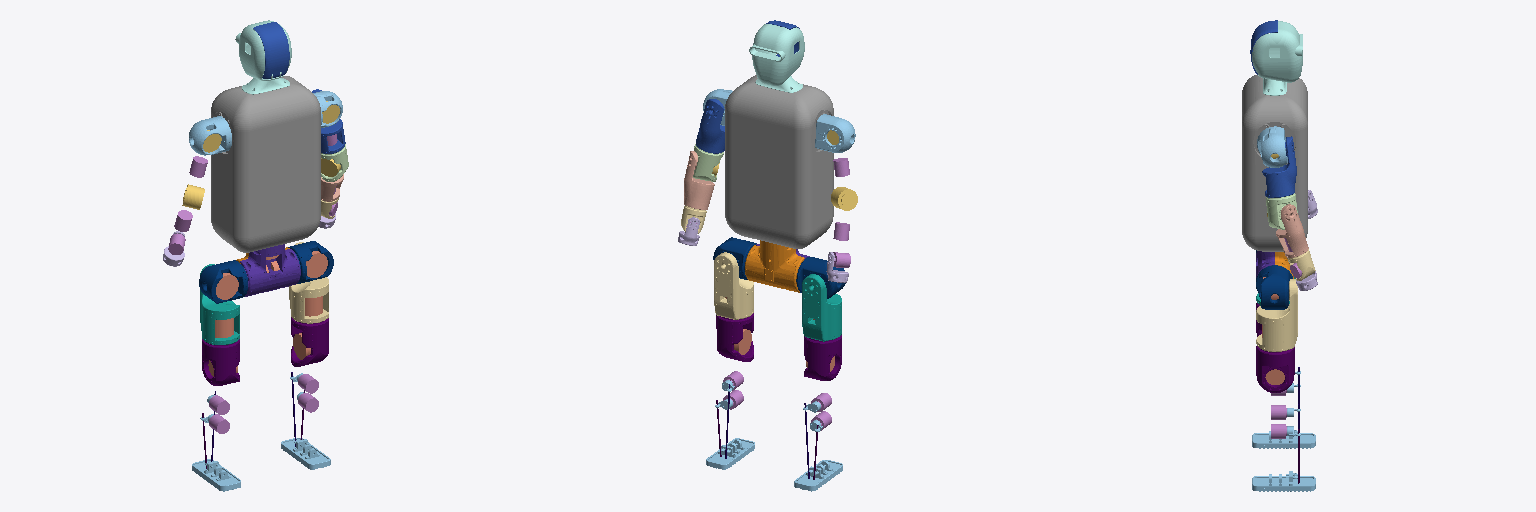
--- Facts derived from the render (not from the file) ---
The picture shows the robot from 3 angles, left to right: view 1: azimuth 30°, elevation 25°; view 2: azimuth 150°, elevation 25°; view 3: azimuth 270°, elevation 25°; orthographic projection.
Robot: robot_harambe_v0.3 — 26 links, 25 joints (25 revolute); root link urdf_base; default pose: every joint at zero.
Links seen in each view (by area): view 1: urdf_simplified_torso, urdf_base, urdf_l_upper_femur_assembly, urdf_hip_assembly, urdf_r_upper_femur_assemby, urdf_lower_femur_assembly_2, urdf_lower_femur_assembly, urdf_l_shoulder_assembly, urdf_hip_assembly_2, urdf_foot_assembly_2, urdf_foot_assembly, urdf_r_tibia_assembly (+4 smaller); view 2: urdf_simplified_torso, urdf_base, urdf_l_upper_femur_assembly, urdf_r_upper_femur_assemby, urdf_lower_femur_assembly_2, urdf_lower_femur_assembly, urdf_l_shoulder_assembly, urdf_r_upper_arm_assembly, urdf_r_upper_forearm_assembly, urdf_l_tibia_assembly, urdf_foot_assembly_2, urdf_foot_assembly (+4 smaller); view 3: urdf_simplified_torso, urdf_r_upper_femur_assemby, urdf_lower_femur_assembly_2, urdf_hip_assembly_2, urdf_r_upper_arm_assembly, urdf_r_upper_forearm_assembly, urdf_r_shoulder_assembly, urdf_foot_assembly_2, urdf_foot_assembly, urdf_r_tibia_assembly, urdf_r_elbow_assembly, urdf_r_lower_forearm_assembly.
Link boxes in pixels (x1,y1,x2,y2): urdf_simplified_torso: (211,20,320,252); urdf_base: (236,244,300,296); urdf_l_upper_femur_assembly: (200,264,239,344); urdf_hip_assembly: (199,260,247,303); urdf_r_upper_femur_assemby: (289,242,328,323); urdf_lower_femur_assembly_2: (291,317,328,366); urdf_lower_femur_assembly: (202,339,239,385); urdf_l_shoulder_assembly: (189,116,231,155); urdf_hip_assembly_2: (288,241,333,283); urdf_foot_assembly_2: (281,438,330,469); urdf_foot_assembly: (192,459,240,491); urdf_r_tibia_assembly: (290,372,318,446); urdf_simplified_torso: (725,20,833,248); urdf_base: (745,240,809,292); urdf_l_upper_femur_assembly: (802,274,841,341); urdf_r_upper_femur_assemby: (714,252,753,319); urdf_lower_femur_assembly_2: (716,313,753,361); urdf_lower_femur_assembly: (804,335,841,380); urdf_l_shoulder_assembly: (815,114,855,152); urdf_r_upper_arm_assembly: (696,99,724,153); urdf_r_upper_forearm_assembly: (684,151,714,209); urdf_l_tibia_assembly: (803,393,831,479); urdf_foot_assembly_2: (706,438,754,469); urdf_foot_assembly: (794,460,842,491); urdf_simplified_torso: (1242,20,1307,251); urdf_r_upper_femur_assemby: (1256,279,1297,351); urdf_lower_femur_assembly_2: (1256,346,1294,392); urdf_hip_assembly_2: (1256,265,1292,309); urdf_r_upper_arm_assembly: (1262,136,1296,197); urdf_r_upper_forearm_assembly: (1276,204,1308,257); urdf_r_shoulder_assembly: (1257,126,1287,167); urdf_foot_assembly_2: (1252,471,1315,491); urdf_foot_assembly: (1252,430,1315,448); urdf_r_tibia_assembly: (1271,404,1300,483); urdf_r_elbow_assembly: (1266,193,1297,229); urdf_r_lower_forearm_assembly: (1287,249,1315,280).
Size in the robot's own frame: 0.7097 by 0.2769 by 1.77 metres.
52 mesh visuals loaded from 31 distinct referenced files (24 binary STL); not drawn: 8 (reference not matched to a file when rendering).

URDF robot description (robot_harambe_v0.3):
<?xml version="1.0" ?>
<!-- Generated using onshape-to-robot -->
<!-- Onshape document_id: a1654a8c4d07fc15a88455e3 -->
<robot name="robot_harambe_v0.3">
  <!-- Link urdf_base -->
  <link name="urdf_base">
    <inertial>
      <origin xyz="0.000699269 0.0334604 -0.431702" rpy="0 0 0"/>
      <mass value="5.132"/>
      <inertia ixx="0.0213139" ixy="-2.35276e-07" ixz="6.5838e-06" iyy="0.0288848" iyz="-2.88595e-05" izz="0.0155352"/>
    </inertial>
    <!-- Part stator_x8_p20_120_unified -->
    <visual>
      <origin xyz="-0.0103011 0.0333787 -0.467748" rpy="-1.5708 0.785398 1.5708"/>
      <geometry>
        <mesh filename="package://assets/stator_x8_p20_120_unified.stl"/>
      </geometry>
      <material name="stator_x8_p20_120_unified_material">
        <color rgba="0.882353 0.572549 0.478431 1"/>
      </material>
    </visual>
    <collision>
      <origin xyz="-0.0103011 0.0333787 -0.467748" rpy="-1.5708 0.785398 1.5708"/>
      <geometry>
        <mesh filename="package://assets/stator_x8_p20_120_unified.stl"/>
      </geometry>
    </collision>
    <!-- Part b_base -->
    <visual>
      <origin xyz="0.000697952 -0.00271429 -0.432504" rpy="0 -0 0"/>
      <geometry>
        <mesh filename="package://assets/b_base.stl"/>
      </geometry>
      <material name="b_base_material">
        <color rgba="0.368627 0.25098 0.643137 1"/>
      </material>
    </visual>
    <collision>
      <origin xyz="0.000697952 -0.00271429 -0.432504" rpy="0 -0 0"/>
      <geometry>
        <mesh filename="package://assets/b_base.stl"/>
      </geometry>
    </collision>
    <!-- Part stator_x8_p20_120_unified_2 -->
    <visual>
      <origin xyz="0.0116989 0.0333787 -0.467748" rpy="1.5708 -0.785398 1.5708"/>
      <geometry>
        <mesh filename="package://assets/stator_x8_p20_120_unified.stl"/>
      </geometry>
      <material name="stator_x8_p20_120_unified_2_material">
        <color rgba="0.882353 0.572549 0.478431 1"/>
      </material>
    </visual>
    <collision>
      <origin xyz="0.0116989 0.0333787 -0.467748" rpy="1.5708 -0.785398 1.5708"/>
      <geometry>
        <mesh filename="package://assets/stator_x8_p20_120_unified.stl"/>
      </geometry>
    </collision>
    <!-- Part stator_x8_p20_120_unified_3 -->
    <visual>
      <origin xyz="0.000698852 0.0333787 -0.396748" rpy="0 -0 0"/>
      <geometry>
        <mesh filename="package://assets/stator_x8_p20_120_unified.stl"/>
      </geometry>
      <material name="stator_x8_p20_120_unified_3_material">
        <color rgba="0.882353 0.572549 0.478431 1"/>
      </material>
    </visual>
    <collision>
      <origin xyz="0.000698852 0.0333787 -0.396748" rpy="0 -0 0"/>
      <geometry>
        <mesh filename="package://assets/stator_x8_p20_120_unified.stl"/>
      </geometry>
    </collision>
    <!-- Part f_base -->
    <visual>
      <origin xyz="0.000705351 0.070373 -0.431099" rpy="0 -0 0"/>
      <geometry>
        <mesh filename="package://assets/f_base.stl"/>
      </geometry>
      <material name="f_base_material">
        <color rgba="0.909804 0.572549 0.164706 1"/>
      </material>
    </visual>
    <collision>
      <origin xyz="0.000705351 0.070373 -0.431099" rpy="0 -0 0"/>
      <geometry>
        <mesh filename="package://assets/f_base.stl"/>
      </geometry>
    </collision>
  </link>
  <!-- Link urdf_simplified_torso -->
  <link name="urdf_simplified_torso">
    <inertial>
      <origin xyz="4.1776e-05 0.00199118 0.327574" rpy="0 0 0"/>
      <mass value="5.9"/>
      <inertia ixx="0.294153" ixy="-5.08517e-07" ixz="-9.68158e-05" iyy="0.320832" iyz="-0.00443482" izz="0.076931"/>
    </inertial>
    <!-- Part urdf_simplified_torso -->
    <visual>
      <origin xyz="0 5.1e-11 0.26095" rpy="-0 -0 -0"/>
      <geometry>
        <mesh filename="package://assets/urdf_simplified_torso.stl"/>
      </geometry>
      <material name="urdf_simplified_torso_material">
        <color rgba="0.647059 0.647059 0.647059 1"/>
      </material>
    </visual>
    <collision>
      <origin xyz="0 5.1e-11 0.26095" rpy="-0 -0 -0"/>
      <geometry>
        <mesh filename="package://assets/urdf_simplified_torso.stl"/>
      </geometry>
    </collision>
    <!-- Part head -->
    <visual>
      <origin xyz="0.000382221 4.03711e-05 0.67095" rpy="0 0 0"/>
      <geometry>
        <mesh filename="package://assets/head.stl"/>
      </geometry>
      <material name="head_material">
        <color rgba="0.737255 0.937255 0.917647 1"/>
      </material>
    </visual>
    <collision>
      <origin xyz="0.000382221 4.03711e-05 0.67095" rpy="0 0 0"/>
      <geometry>
        <mesh filename="package://assets/head.stl"/>
      </geometry>
    </collision>
    <!-- Part back_access -->
    <visual>
      <origin xyz="0.000382221 4.03711e-05 0.672878" rpy="0 0 0"/>
      <geometry>
        <mesh filename="package://assets/back_access.stl"/>
      </geometry>
      <material name="back_access_material">
        <color rgba="0.231373 0.380392 0.705882 1"/>
      </material>
    </visual>
    <collision>
      <origin xyz="0.000382221 4.03711e-05 0.672878" rpy="0 0 0"/>
      <geometry>
        <mesh filename="package://assets/back_access.stl"/>
      </geometry>
    </collision>
  </link>
  <!-- Link urdf_l_shoulder_assembly -->
  <link name="urdf_l_shoulder_assembly">
    <inertial>
      <origin xyz="-0.00409836 0.000544496 0.0631966" rpy="0 0 0"/>
      <mass value="1.246"/>
      <inertia ixx="0.00205876" ixy="-4.11941e-05" ixz="-3.48871e-05" iyy="0.00171602" iyz="7.63836e-06" izz="0.00152408"/>
    </inertial>
    <!-- Part l_shoulder -->
    <visual>
      <origin xyz="-0.00129022 0.000165436 0.0502746" rpy="1.69297 1.5708 0"/>
      <geometry>
        <mesh filename="package://assets/l_shoulder.stl"/>
      </geometry>
      <material name="l_shoulder_material">
        <color rgba="0.615686 0.811765 0.929412 1"/>
      </material>
    </visual>
    <collision>
      <origin xyz="-0.00129022 0.000165436 0.0502746" rpy="1.69297 1.5708 0"/>
      <geometry>
        <mesh filename="package://assets/l_shoulder.stl"/>
      </geometry>
    </collision>
    <!-- Part stator_x6_p20_60_unified -->
    <visual>
      <origin xyz="-0.038213 0.00469197 0.07" rpy="0.122173 1.5708 0"/>
      <geometry>
        <mesh filename="package://assets/stator_x6_p20_60_unified.stl"/>
      </geometry>
      <material name="stator_x6_p20_60_unified_material">
        <color rgba="0.960784 0.835294 0.470588 1"/>
      </material>
    </visual>
    <collision>
      <origin xyz="-0.038213 0.00469197 0.07" rpy="0.122173 1.5708 0"/>
      <geometry>
        <mesh filename="package://assets/stator_x6_p20_60_unified.stl"/>
      </geometry>
    </collision>
  </link>
  <!-- Link urdf_l_upper_arm_assembly -->
  <link name="urdf_l_upper_arm_assembly">
    <inertial>
      <origin xyz="-0.0213183 0.103332 -0.0354438" rpy="0 0 0"/>
      <mass value="0.802"/>
      <inertia ixx="0.00203106" ixy="0.000183112" ixz="-8.88411e-05" iyy="0.00107639" iyz="0.000467525" izz="0.00190836"/>
    </inertial>
    <!-- Part urdf_l_upper_arm_simplified -->
    <visual>
      <origin xyz="-0.0182149 0.0914676 -0.0268697" rpy="1.5708 -0.785398 0.20944"/>
      <geometry>
        <mesh filename="package://assets/urdf_l_upper_arm_simplified.stl"/>
      </geometry>
      <material name="urdf_l_upper_arm_simplified_material">
        <color rgba="0.917647 0.917647 0.917647 1"/>
      </material>
    </visual>
    <collision>
      <origin xyz="-0.0182149 0.0914676 -0.0268697" rpy="1.5708 -0.785398 0.20944"/>
      <geometry>
        <mesh filename="package://assets/urdf_l_upper_arm_simplified.stl"/>
      </geometry>
    </collision>
    <!-- Part stator_x4_p36_36_unified -->
    <visual>
      <origin xyz="-0.01892 0.0890114 -0.046" rpy="-1.5708 0.785398 0.20944"/>
      <geometry>
        <mesh filename="package://assets/stator_x4_p36_36_unified.stl"/>
      </geometry>
      <material name="stator_x4_p36_36_unified_material">
        <color rgba="0.764706 0.545098 0.803922 1"/>
      </material>
    </visual>
    <collision>
      <origin xyz="-0.01892 0.0890114 -0.046" rpy="-1.5708 0.785398 0.20944"/>
      <geometry>
        <mesh filename="package://assets/stator_x4_p36_36_unified.stl"/>
      </geometry>
    </collision>
  </link>
  <!-- Link urdf_l_elbow_assembly -->
  <link name="urdf_l_elbow_assembly">
    <inertial>
      <origin xyz="0.000297133 0.00777593 -0.0710681" rpy="0 0 0"/>
      <mass value="1.109"/>
      <inertia ixx="0.00140529" ixy="1.03356e-05" ixz="-1.68171e-05" iyy="0.00151899" iyz="7.83699e-05" izz="0.00113761"/>
    </inertial>
    <!-- Part stator_x6_p20_60_unified_2 -->
    <visual>
      <origin xyz="0 0.044 -0.075" rpy="1.5708 1.5708 0"/>
      <geometry>
        <mesh filename="package://assets/stator_x6_p20_60_unified.stl"/>
      </geometry>
      <material name="stator_x6_p20_60_unified_2_material">
        <color rgba="0.960784 0.835294 0.470588 1"/>
      </material>
    </visual>
    <collision>
      <origin xyz="0 0.044 -0.075" rpy="1.5708 1.5708 0"/>
      <geometry>
        <mesh filename="package://assets/stator_x6_p20_60_unified.stl"/>
      </geometry>
    </collision>
    <!-- Part urdf_l_elbow_simplified -->
    <visual>
      <origin xyz="0 0.01225 -0.075" rpy="-1.5708 1.5708 0"/>
      <geometry>
        <mesh filename="package://assets/urdf_l_elbow_simplified.stl"/>
      </geometry>
      <material name="urdf_l_elbow_simplified_material">
        <color rgba="0.231373 0.380392 0.705882 1"/>
      </material>
    </visual>
    <collision>
      <origin xyz="0 0.01225 -0.075" rpy="-1.5708 1.5708 0"/>
      <geometry>
        <mesh filename="package://assets/urdf_l_elbow_simplified.stl"/>
      </geometry>
    </collision>
  </link>
  <!-- Link urdf_l_upper_forearm_assembly -->
  <link name="urdf_l_upper_forearm_assembly">
    <inertial>
      <origin xyz="0.10341 0.00191699 0.0286559" rpy="0 0 0"/>
      <mass value="0.707"/>
      <inertia ixx="0.000720041" ixy="-2.79231e-06" ixz="-0.000365631" iyy="0.00168211" iyz="-5.21195e-06" izz="0.00146156"/>
    </inertial>
    <!-- Part urdf_l_upper_forearm_simplified -->
    <visual>
      <origin xyz="0.119 0 0.035" rpy="0 -1.5708 0"/>
      <geometry>
        <mesh filename="package://assets/urdf_l_upper_forearm_simplified.stl"/>
      </geometry>
      <material name="urdf_l_upper_forearm_simplified_material">
        <color rgba="0.498039 0.498039 0.498039 1"/>
      </material>
    </visual>
    <collision>
      <origin xyz="0.119 0 0.035" rpy="0 -1.5708 0"/>
      <geometry>
        <mesh filename="package://assets/urdf_l_upper_forearm_simplified.stl"/>
      </geometry>
    </collision>
    <!-- Part stator_x4_p36_36_unified_2 -->
    <visual>
      <origin xyz="0.09 0 0.035" rpy="-3.14159 -1.5708 0"/>
      <geometry>
        <mesh filename="package://assets/stator_x4_p36_36_unified.stl"/>
      </geometry>
      <material name="stator_x4_p36_36_unified_2_material">
        <color rgba="0.764706 0.545098 0.803922 1"/>
      </material>
    </visual>
    <collision>
      <origin xyz="0.09 0 0.035" rpy="-3.14159 -1.5708 0"/>
      <geometry>
        <mesh filename="package://assets/stator_x4_p36_36_unified.stl"/>
      </geometry>
    </collision>
  </link>
  <!-- Link urdf_l_lower_forearm_assembly -->
  <link name="urdf_l_lower_forearm_assembly">
    <inertial>
      <origin xyz="-0.000687732 -0.00432126 -0.0515634" rpy="0 0 0"/>
      <mass value="0.618"/>
      <inertia ixx="0.000619445" ixy="-4.69813e-06" ixz="1.66447e-05" iyy="0.000626234" iyz="-2.276e-05" izz="0.000448744"/>
    </inertial>
    <!-- Part urdf_l_lower_forearm_simplified -->
    <visual>
      <origin xyz="0 -0.009 -0.0615" rpy="-1.5708 -0 -3.14159"/>
      <geometry>
        <mesh filename="package://assets/urdf_l_lower_forearm_simplified.stl"/>
      </geometry>
      <material name="urdf_l_lower_forearm_simplified_material">
        <color rgba="0.980392 0.713725 0.00392157 1"/>
      </material>
    </visual>
    <collision>
      <origin xyz="0 -0.009 -0.0615" rpy="-1.5708 -0 -3.14159"/>
      <geometry>
        <mesh filename="package://assets/urdf_l_lower_forearm_simplified.stl"/>
      </geometry>
    </collision>
    <!-- Part stator_x4_p36_36_unified_3 -->
    <visual>
      <origin xyz="0 -0.0375 -0.0615" rpy="1.5708 -0 -3.14159"/>
      <geometry>
        <mesh filename="package://assets/stator_x4_p36_36_unified.stl"/>
      </geometry>
      <material name="stator_x4_p36_36_unified_3_material">
        <color rgba="0.764706 0.545098 0.803922 1"/>
      </material>
    </visual>
    <collision>
      <origin xyz="0 -0.0375 -0.0615" rpy="1.5708 -0 -3.14159"/>
      <geometry>
        <mesh filename="package://assets/stator_x4_p36_36_unified.stl"/>
      </geometry>
    </collision>
  </link>
  <!-- Link urdf_l_wrist_assembly -->
  <link name="urdf_l_wrist_assembly">
    <inertial>
      <origin xyz="-4.30487e-06 0.0434653 -0.0219307" rpy="0 0 0"/>
      <mass value="0.098"/>
      <inertia ixx="0.000123151" ixy="5.685e-09" ixz="4.662e-09" iyy="9.46279e-05" iyz="3.33959e-05" izz="0.000100785"/>
    </inertial>
    <!-- Part l_wrist -->
    <visual>
      <origin xyz="-4.31502e-06 0.0434653 -0.0219314" rpy="1.5708 0 -0"/>
      <geometry>
        <mesh filename="package://assets/l_wrist.stl"/>
      </geometry>
      <material name="l_wrist_material">
        <color rgba="0.8 0.74902 0.913725 1"/>
      </material>
    </visual>
    <collision>
      <origin xyz="-4.31502e-06 0.0434653 -0.0219314" rpy="1.5708 0 -0"/>
      <geometry>
        <mesh filename="package://assets/l_wrist.stl"/>
      </geometry>
    </collision>
  </link>
  <!-- Joint from urdf_l_lower_forearm_assembly to urdf_l_wrist_assembly -->
  <joint name="left_wrist_roll_joint_X4" type="revolute">
    <origin xyz="0 0.027 -0.0615" rpy="-1.5708 0 0"/>
    <parent link="urdf_l_lower_forearm_assembly"/>
    <child link="urdf_l_wrist_assembly"/>
    <axis xyz="0 0 1"/>
    <limit effort="10" velocity="10" lower="-1.5708" upper="1.5708"/>
  </joint>
  <!-- Joint from urdf_l_upper_forearm_assembly to urdf_l_lower_forearm_assembly -->
  <joint name="left_wrist_yaw_joint_X4" type="revolute">
    <origin xyz="0.163 0 0.035" rpy="0 -1.5708 0"/>
    <parent link="urdf_l_upper_forearm_assembly"/>
    <child link="urdf_l_lower_forearm_assembly"/>
    <axis xyz="0 0 1"/>
    <limit effort="10" velocity="10" lower="-2.35619" upper="2.35619"/>
  </joint>
  <!-- Joint from urdf_l_elbow_assembly to urdf_l_upper_forearm_assembly -->
  <joint name="left_elbow_pitch_joint_X6" type="revolute">
    <origin xyz="0 -0.035 -0.075" rpy="1.5708 1.309 3.14159"/>
    <parent link="urdf_l_elbow_assembly"/>
    <child link="urdf_l_upper_forearm_assembly"/>
    <axis xyz="0 0 1"/>
    <limit effort="10" velocity="10" lower="-1.8326" upper="1.309"/>
  </joint>
  <!-- Joint from urdf_l_upper_arm_assembly to urdf_l_elbow_assembly -->
  <joint name="left_shoulder_yaw_joint_X4" type="revolute">
    <origin xyz="-0.0343054 0.161394 -0.046" rpy="-1.5708 0.959931 -2.93215"/>
    <parent link="urdf_l_upper_arm_assembly"/>
    <child link="urdf_l_elbow_assembly"/>
    <axis xyz="0 0 1"/>
    <limit effort="10" velocity="10" lower="-1.74533" upper="2.96706"/>
  </joint>
  <!-- Joint from urdf_l_shoulder_assembly to urdf_l_upper_arm_assembly -->
  <joint name="left_shoulder_roll_joint_X6" type="revolute">
    <origin xyz="0.0456571 -0.00560599 0.07" rpy="0.122173 1.5708 0"/>
    <parent link="urdf_l_shoulder_assembly"/>
    <child link="urdf_l_upper_arm_assembly"/>
    <axis xyz="0 0 1"/>
    <limit effort="10" velocity="10" lower="-0.20944" upper="2.93215"/>
  </joint>
  <!-- Joint from urdf_simplified_torso to urdf_l_shoulder_assembly -->
  <joint name="left_shoulder_pitch_joint_X6" type="revolute">
    <origin xyz="-0.1755 -5.1e-11 0.423977" rpy="-1.5708 -0 1.5708"/>
    <parent link="urdf_simplified_torso"/>
    <child link="urdf_l_shoulder_assembly"/>
    <axis xyz="0 0 1"/>
    <limit effort="10" velocity="10" lower="-3.01942" upper="1.69297"/>
  </joint>
  <!-- Link urdf_r_shoulder_assembly -->
  <link name="urdf_r_shoulder_assembly">
    <inertial>
      <origin xyz="-0.0047018 0.000602814 -0.0660727" rpy="0 0 0"/>
      <mass value="1.02"/>
      <inertia ixx="0.0013257" ixy="-2.16639e-05" ixz="1.37507e-05" iyy="0.0011458" iyz="-3.46307e-06" izz="0.00104972"/>
    </inertial>
    <!-- Part stator_x6_p20_60_unified_3 -->
    <visual>
      <origin xyz="-0.038213 0.00469197 -0.07" rpy="0.122173 1.5708 0"/>
      <geometry>
        <mesh filename="package://assets/stator_x6_p20_60_unified.stl"/>
      </geometry>
      <material name="stator_x6_p20_60_unified_3_material">
        <color rgba="0.960784 0.835294 0.470588 1"/>
      </material>
    </visual>
    <collision>
      <origin xyz="-0.038213 0.00469197 -0.07" rpy="0.122173 1.5708 0"/>
      <geometry>
        <mesh filename="package://assets/stator_x6_p20_60_unified.stl"/>
      </geometry>
    </collision>
    <!-- Part r_shoulder -->
    <visual>
      <origin xyz="-0.00128021 0.000164153 -0.0501448" rpy="1.69297 1.5708 0"/>
      <geometry>
        <mesh filename="package://assets/r_shoulder.stl"/>
      </geometry>
      <material name="r_shoulder_material">
        <color rgba="0.615686 0.811765 0.929412 1"/>
      </material>
    </visual>
    <collision>
      <origin xyz="-0.00128021 0.000164153 -0.0501448" rpy="1.69297 1.5708 0"/>
      <geometry>
        <mesh filename="package://assets/r_shoulder.stl"/>
      </geometry>
    </collision>
  </link>
  <!-- Link urdf_r_upper_arm_assembly -->
  <link name="urdf_r_upper_arm_assembly">
    <inertial>
      <origin xyz="0.0216402 0.101809 -0.0347331" rpy="0 0 0"/>
      <mass value="0.802"/>
      <inertia ixx="0.00200295" ixy="-0.000209825" ixz="9.73944e-05" iyy="0.00106039" iyz="0.00045821" izz="0.00188605"/>
    </inertial>
    <!-- Part stator_x4_p36_36_unified_4 -->
    <visual>
      <origin xyz="0.01892 0.0890114 -0.046" rpy="-1.5708 0 -0.20944"/>
      <geometry>
        <mesh filename="package://assets/stator_x4_p36_36_unified.stl"/>
      </geometry>
      <material name="stator_x4_p36_36_unified_4_material">
        <color rgba="0.764706 0.545098 0.803922 1"/>
      </material>
    </visual>
    <collision>
      <origin xyz="0.01892 0.0890114 -0.046" rpy="-1.5708 0 -0.20944"/>
      <geometry>
        <mesh filename="package://assets/stator_x4_p36_36_unified.stl"/>
      </geometry>
    </collision>
    <!-- Part r_upper_arm -->
    <visual>
      <origin xyz="0.0188225 0.0885531 -0.025543" rpy="1.5708 0 -0.20944"/>
      <geometry>
        <mesh filename="package://assets/r_upper_arm.stl"/>
      </geometry>
      <material name="r_upper_arm_material">
        <color rgba="0.231373 0.380392 0.705882 1"/>
      </material>
    </visual>
    <collision>
      <origin xyz="0.0188225 0.0885531 -0.025543" rpy="1.5708 0 -0.20944"/>
      <geometry>
        <mesh filename="package://assets/r_upper_arm.stl"/>
      </geometry>
    </collision>
  </link>
  <!-- Link urdf_r_elbow_assembly -->
  <link name="urdf_r_elbow_assembly">
    <inertial>
      <origin xyz="-0.006946 -0.00482512 -0.0612736" rpy="0 0 0"/>
      <mass value="1.109"/>
      <inertia ixx="0.00147254" ixy="5.71903e-05" ixz="-4.8341e-05" iyy="0.00143026" iyz="-3.66028e-05" izz="0.00111817"/>
    </inertial>
    <!-- Part r_elbow -->
    <visual>
      <origin xyz="0.000264961 0.000199692 -0.0512953" rpy="0 0 0.610865"/>
      <geometry>
        <mesh filename="package://assets/r_elbow.stl"/>
      </geometry>
      <material name="r_elbow_material">
        <color rgba="0.796078 0.905882 0.745098 1"/>
      </material>
    </visual>
    <collision>
      <origin xyz="0.000264961 0.000199692 -0.0512953" rpy="0 0 0.610865"/>
      <geometry>
        <mesh filename="package://assets/r_elbow.stl"/>
      </geometry>
    </collision>
    <!-- Part stator_x6_p20_60_unified_4 -->
    <visual>
      <origin xyz="-0.0364523 -0.0255242 -0.065" rpy="-2.53073 -1.5708 0"/>
      <geometry>
        <mesh filename="package://assets/stator_x6_p20_60_unified.stl"/>
      </geometry>
      <material name="stator_x6_p20_60_unified_4_material">
        <color rgba="0.960784 0.835294 0.470588 1"/>
      </material>
    </visual>
    <collision>
      <origin xyz="-0.0364523 -0.0255242 -0.065" rpy="-2.53073 -1.5708 0"/>
      <geometry>
        <mesh filename="package://assets/stator_x6_p20_60_unified.stl"/>
      </geometry>
    </collision>
  </link>
  <!-- Link urdf_r_upper_forearm_assembly -->
  <link name="urdf_r_upper_forearm_assembly">
    <inertial>
      <origin xyz="0.0285486 0.0977333 0.0327896" rpy="0 0 0"/>
      <mass value="0.707"/>
      <inertia ixx="0.00159667" ixy="-0.000254664" ixz="-0.000102417" iyy="0.000776009" iyz="-0.000337457" izz="0.0014499"/>
    </inertial>
    <!-- Part stator_x4_p36_36_unified_5 -->
    <visual>
      <origin xyz="0.0232937 0.0869333 0.04" rpy="-1.309 1.5708 0"/>
      <geometry>
        <mesh filename="package://assets/stator_x4_p36_36_unified.stl"/>
      </geometry>
      <material name="stator_x4_p36_36_unified_5_material">
        <color rgba="0.764706 0.545098 0.803922 1"/>
      </material>
    </visual>
    <collision>
      <origin xyz="0.0232937 0.0869333 0.04" rpy="-1.309 1.5708 0"/>
      <geometry>
        <mesh filename="package://assets/stator_x4_p36_36_unified.stl"/>
      </geometry>
    </collision>
    <!-- Part r_upper_forearm -->
    <visual>
      <origin xyz="0.0263061 0.0801326 0.0254856" rpy="1.8326 1.5708 0"/>
      <geometry>
        <mesh filename="package://assets/r_upper_forearm.stl"/>
      </geometry>
      <material name="r_upper_forearm_material">
        <color rgba="0.890196 0.698039 0.639216 1"/>
      </material>
    </visual>
    <collision>
      <origin xyz="0.0263061 0.0801326 0.0254856" rpy="1.8326 1.5708 0"/>
      <geometry>
        <mesh filename="package://assets/r_upper_forearm.stl"/>
      </geometry>
    </collision>
  </link>
  <!-- Link urdf_r_lower_forearm_assembly -->
  <link name="urdf_r_lower_forearm_assembly">
    <inertial>
      <origin xyz="-2.4334e-08 0.00399848 0.046852" rpy="0 0 0"/>
      <mass value="0.618"/>
      <inertia ixx="0.000618602" ixy="-1.76e-10" ixz="5.34e-10" iyy="0.000617307" iyz="-3.83228e-05" izz="0.000437775"/>
    </inertial>
    <!-- Part r_lower_forearm -->
    <visual>
      <origin xyz="4.2712e-08 -0.00205797 0.0333447" rpy="3.14159 0 -0"/>
      <geometry>
        <mesh filename="package://assets/r_lower_forearm.stl"/>
      </geometry>
      <material name="r_lower_forearm_material">
        <color rgba="0.941176 0.87451 0.678431 1"/>
      </material>
    </visual>
    <collision>
      <origin xyz="4.2712e-08 -0.00205797 0.0333447" rpy="3.14159 0 -0"/>
      <geometry>
        <mesh filename="package://assets/r_lower_forearm.stl"/>
      </geometry>
    </collision>
    <!-- Part stator_x4_p36_36_unified_6 -->
    <visual>
      <origin xyz="0 0.038 0.0565" rpy="-1.5708 -1e-12 -3.14159"/>
      <geometry>
        <mesh filename="package://assets/stator_x4_p36_36_unified.stl"/>
      </geometry>
      <material name="stator_x4_p36_36_unified_6_material">
        <color rgba="0.764706 0.545098 0.803922 1"/>
      </material>
    </visual>
    <collision>
      <origin xyz="0 0.038 0.0565" rpy="-1.5708 -1e-12 -3.14159"/>
      <geometry>
        <mesh filename="package://assets/stator_x4_p36_36_unified.stl"/>
      </geometry>
    </collision>
  </link>
  <!-- Link urdf_r_wrist_assembly -->
  <link name="urdf_r_wrist_assembly">
    <inertial>
      <origin xyz="4.59046e-06 0.043439 -0.0219123" rpy="0 0 0"/>
      <mass value="0.15"/>
      <inertia ixx="0.000188543" ixy="-9.002e-09" ixz="-6.565e-09" iyy="0.000144985" iyz="5.11126e-05" izz="0.000154293"/>
    </inertial>
    <!-- Part r_wrist -->
    <visual>
      <origin xyz="4.44584e-06 0.0434653 -0.0219316" rpy="1.5708 -0 -0"/>
      <geometry>
        <mesh filename="package://assets/r_wrist.stl"/>
      </geometry>
      <material name="r_wrist_material">
        <color rgba="0.8 0.74902 0.913725 1"/>
      </material>
    </visual>
    <collision>
      <origin xyz="4.44584e-06 0.0434653 -0.0219316" rpy="1.5708 -0 -0"/>
      <geometry>
        <mesh filename="package://assets/r_wrist.stl"/>
      </geometry>
    </collision>
  </link>
  <!-- Joint from urdf_r_lower_forearm_assembly to urdf_r_wrist_assembly -->
  <joint name="right_wrist_roll_joint_X4" type="revolute">
    <origin xyz="-0 -0.027 0.0565" rpy="1.5708 0 -0"/>
    <parent link="urdf_r_lower_forearm_assembly"/>
    <child link="urdf_r_wrist_assembly"/>
    <axis xyz="0 0 1"/>
    <limit effort="10" velocity="10" lower="-1.5708" upper="1.5708"/>
  </joint>
  <!-- Joint from urdf_r_upper_forearm_assembly to urdf_r_lower_forearm_assembly -->
  <joint name="right_wrist_yaw_joint_X4" type="revolute">
    <origin xyz="0.0434816 0.162276 0.04" rpy="-1.309 1.5708 0"/>
    <parent link="urdf_r_upper_forearm_assembly"/>
    <child link="urdf_r_lower_forearm_assembly"/>
    <axis xyz="0 0 1"/>
    <limit effort="10" velocity="10" lower="-2.35619" upper="2.35619"/>
  </joint>
  <!-- Joint from urdf_r_elbow_assembly to urdf_r_upper_forearm_assembly -->
  <joint name="right_elbow_pitch_joint_X6" type="revolute">
    <origin xyz="0.0327661 0.0229431 -0.065" rpy="-1.5708 -0 2.18166"/>
    <parent link="urdf_r_elbow_assembly"/>
    <child link="urdf_r_upper_forearm_assembly"/>
    <axis xyz="0 0 1"/>
    <limit effort="10" velocity="10" lower="-1.309" upper="1.8326"/>
  </joint>
  <!-- Joint from urdf_r_upper_arm_assembly to urdf_r_elbow_assembly -->
  <joint name="right_shoulder_yaw_joint_X4" type="revolute">
    <origin xyz="0.035345 0.166285 -0.046" rpy="1.5708 -0 -0.20944"/>
    <parent link="urdf_r_upper_arm_assembly"/>
    <child link="urdf_r_elbow_assembly"/>
    <axis xyz="0 0 1"/>
    <limit effort="10" velocity="10" lower="-2.96706" upper="1.74533"/>
  </joint>
  <!-- Joint from urdf_r_shoulder_assembly to urdf_r_upper_arm_assembly -->
  <joint name="right_shoulder_roll_joint_X6" type="revolute">
    <origin xyz="0.0456571 -0.00560599 -0.07" rpy="0.122173 1.5708 0"/>
    <parent link="urdf_r_shoulder_assembly"/>
    <child link="urdf_r_upper_arm_assembly"/>
    <axis xyz="0 0 1"/>
    <limit effort="10" velocity="10" lower="-2.93215" upper="0.20944"/>
  </joint>
  <!-- Joint from urdf_simplified_torso to urdf_r_shoulder_assembly -->
  <joint name="right_shoulder_pitch_joint_X6" type="revolute">
    <origin xyz="0.1755 -5.1e-11 0.423977" rpy="-1.5708 -0 1.5708"/>
    <parent link="urdf_simplified_torso"/>
    <child link="urdf_r_shoulder_assembly"/>
    <axis xyz="0 0 1"/>
    <limit effort="10" velocity="10" lower="-3.01942" upper="1.69297"/>
  </joint>
  <!-- Joint from urdf_base to urdf_simplified_torso -->
  <joint name="waist_yaw_joint" type="revolute">
    <origin xyz="0.000698852 0.0333787 -0.300748" rpy="0 -0 0"/>
    <parent link="urdf_base"/>
    <child link="urdf_simplified_torso"/>
    <axis xyz="0 0 1"/>
    <limit effort="10" velocity="10" lower="-1.5708" upper="1.5708"/>
  </joint>
  <!-- Link urdf_hip_assembly -->
  <link name="urdf_hip_assembly">
    <inertial>
      <origin xyz="-0.00420762 6.23945e-06 0.0689982" rpy="0 0 0"/>
      <mass value="1.73"/>
      <inertia ixx="0.00302301" ixy="-4.5747e-08" ixz="2.30858e-05" iyy="0.00263533" iyz="8.49179e-07" izz="0.00228746"/>
    </inertial>
    <!-- Part hip -->
    <visual>
      <origin xyz="0.00253653 3.27638e-05 0.0520203" rpy="1.5708 1.5708 0"/>
      <geometry>
        <mesh filename="package://assets/hip.stl"/>
      </geometry>
      <material name="hip_material">
        <color rgba="0.0627451 0.266667 0.490196 1"/>
      </material>
    </visual>
    <collision>
      <origin xyz="0.00253653 3.27638e-05 0.0520203" rpy="1.5708 1.5708 0"/>
      <geometry>
        <mesh filename="package://assets/hip.stl"/>
      </geometry>
    </collision>
    <!-- Part stator_x8_p20_120_unified_4 -->
    <visual>
      <origin xyz="-0.043 -0 0.073" rpy="-3.14159 -1.5708 0"/>
      <geometry>
        <mesh filename="package://assets/stator_x8_p20_120_unified.stl"/>
      </geometry>
      <material name="stator_x8_p20_120_unified_4_material">
        <color rgba="0.882353 0.572549 0.478431 1"/>
      </material>
    </visual>
    <collision>
      <origin xyz="-0.043 -0 0.073" rpy="-3.14159 -1.5708 0"/>
      <geometry>
        <mesh filename="package://assets/stator_x8_p20_120_unified.stl"/>
      </geometry>
    </collision>
  </link>
  <!-- Link urdf_l_upper_femur_assembly -->
  <link name="urdf_l_upper_femur_assembly">
    <inertial>
      <origin xyz="-0.000406021 0.147969 -0.0457109" rpy="0 0 0"/>
      <mass value="1.912"/>
      <inertia ixx="0.00557257" ixy="-5.1876e-05" ixz="-1.18834e-06" iyy="0.00336728" iyz="0.000930002" izz="0.00512969"/>
    </inertial>
    <!-- Part l_upper_femur -->
    <visual>
      <origin xyz="-0.00151622 0.111785 -0.0257799" rpy="1.5708 0 0"/>
      <geometry>
        <mesh filename="package://assets/l_upper_femur.stl"/>
      </geometry>
      <material name="l_upper_femur_material">
        <color rgba="0.141176 0.694118 0.65098 1"/>
      </material>
    </visual>
    <collision>
      <origin xyz="-0.00151622 0.111785 -0.0257799" rpy="1.5708 0 0"/>
      <geometry>
        <mesh filename="package://assets/l_upper_femur.stl"/>
      </geometry>
    </collision>
    <!-- Part stator_x8_p20_120_unified_5 -->
    <visual>
      <origin xyz="0 0.124 -0.053" rpy="-1.5708 0 0"/>
      <geometry>
        <mesh filename="package://assets/stator_x8_p20_120_unified.stl"/>
      </geometry>
      <material name="stator_x8_p20_120_unified_5_material">
        <color rgba="0.882353 0.572549 0.478431 1"/>
      </material>
    </visual>
    <collision>
      <origin xyz="0 0.124 -0.053" rpy="-1.5708 0 0"/>
      <geometry>
        <mesh filename="package://assets/stator_x8_p20_120_unified.stl"/>
      </geometry>
    </collision>
  </link>
  <!-- Link urdf_lower_femur_assembly -->
  <link name="urdf_lower_femur_assembly">
    <inertial>
      <origin xyz="0.00357383 1.0389e-08 0.103307" rpy="0 0 0"/>
      <mass value="1.817"/>
      <inertia ixx="0.00421827" ixy="-2.5e-11" ixz="-0.00019709" iyy="0.00383469" iyz="-2.1291e-08" izz="0.00258541"/>
    </inertial>
    <!-- Part lower_femur -->
    <visual>
      <origin xyz="-0.00389134 -5.752e-09 0.070766" rpy="-3.14159 0 0"/>
      <geometry>
        <mesh filename="package://assets/lower_femur.stl"/>
      </geometry>
      <material name="lower_femur_material">
        <color rgba="0.380392 0.0470588 0.435294 1"/>
      </material>
    </visual>
    <collision>
      <origin xyz="-0.00389134 -5.752e-09 0.070766" rpy="-3.14159 0 0"/>
      <geometry>
        <mesh filename="package://assets/lower_femur.stl"/>
      </geometry>
    </collision>
    <!-- Part stator_x8_p20_120_unified_6 -->
    <visual>
      <origin xyz="0.043 -0 0.113" rpy="3.14159 1.5708 0"/>
      <geometry>
        <mesh filename="package://assets/stator_x8_p20_120_unified.stl"/>
      </geometry>
      <material name="stator_x8_p20_120_unified_6_material">
        <color rgba="0.882353 0.572549 0.478431 1"/>
      </material>
    </visual>
    <collision>
      <origin xyz="0.043 -0 0.113" rpy="3.14159 1.5708 0"/>
      <geometry>
        <mesh filename="package://assets/stator_x8_p20_120_unified.stl"/>
      </geometry>
    </collision>
  </link>
  <!-- Link urdf_l_tibia_assembly -->
  <link name="urdf_l_tibia_assembly">
    <inertial>
      <origin xyz="0.00463967 0.190721 -0.0449177" rpy="0 0 0"/>
      <mass value="6.45981"/>
      <inertia ixx="0.0785879" ixy="-0.00174734" ixz="0.000322174" iyy="0.0153456" iyz="0.00887502" izz="0.0762229"/>
    </inertial>
    <!-- Part stator_x4_p36_36_unified_7 -->
    <visual>
      <origin xyz="-0.018 0.16 -0.055" rpy="-0 1.5708 0"/>
      <geometry>
        <mesh filename="package://assets/stator_x4_p36_36_unified.stl"/>
      </geometry>
      <material name="stator_x4_p36_36_unified_7_material">
        <color rgba="0.764706 0.545098 0.803922 1"/>
      </material>
    </visual>
    <collision>
      <origin xyz="-0.018 0.16 -0.055" rpy="-0 1.5708 0"/>
      <geometry>
        <mesh filename="package://assets/stator_x4_p36_36_unified.stl"/>
      </geometry>
    </collision>
    <!-- Part stator_x4_p36_36_unified_8 -->
    <visual>
      <origin xyz="-0.018 0.235 -0.055" rpy="3.14159 -1.5708 0"/>
      <geometry>
        <mesh filename="package://assets/stator_x4_p36_36_unified.stl"/>
      </geometry>
      <material name="stator_x4_p36_36_unified_8_material">
        <color rgba="0.764706 0.545098 0.803922 1"/>
      </material>
    </visual>
    <collision>
      <origin xyz="-0.018 0.235 -0.055" rpy="3.14159 -1.5708 0"/>
      <geometry>
        <mesh filename="package://assets/stator_x4_p36_36_unified.stl"/>
      </geometry>
    </collision>
    <!-- Part m6_threaded_bar_300mm -->
    <visual>
      <origin xyz="0.0845 0.288554 -0.0732971" rpy="-3.14159 1.51844 1.5708"/>
      <geometry>
        <mesh filename="package://assets/m6_threaded_bar_300mm.stl"/>
      </geometry>
      <material name="m6_threaded_bar_300mm_material">
        <color rgba="0.141176 0.0352941 0.396078 1"/>
      </material>
    </visual>
    <collision>
      <origin xyz="0.0845 0.288554 -0.0732971" rpy="-3.14159 1.51844 1.5708"/>
      <geometry>
        <mesh filename="package://assets/m6_threaded_bar_300mm.stl"/>
      </geometry>
    </collision>
    <!-- Part urdf_spacer_x4 -->
    <visual>
      <origin xyz="0.05375 0.235 -0.055" rpy="-3.14159 1.50098 -1.5708"/>
      <geometry>
        <mesh filename="package://assets/urdf_spacer_x4.stl"/>
      </geometry>
      <material name="urdf_spacer_x4_material">
        <color rgba="0.615686 0.811765 0.929412 1"/>
      </material>
    </visual>
    <collision>
      <origin xyz="0.05375 0.235 -0.055" rpy="-3.14159 1.50098 -1.5708"/>
      <geometry>
        <mesh filename="package://assets/urdf_spacer_x4.stl"/>
      </geometry>
    </collision>
    <!-- Part urdf_l_tibia_assembly -->
    <visual>
      <origin xyz="0.000678721 0.186264 -0.0431371" rpy="1.5708 1.5708 0"/>
      <geometry>
        <mesh filename="package://assets/urdf_l_tibia_assembly.stl"/>
      </geometry>
      <material name="urdf_l_tibia_assembly_material">
        <color rgba="0.615686 0.811765 0.929412 1"/>
      </material>
    </visual>
    <collision>
      <origin xyz="0.000678721 0.186264 -0.0431371" rpy="1.5708 1.5708 0"/>
      <geometry>
        <mesh filename="package://assets/urdf_l_tibia_assembly.stl"/>
      </geometry>
    </collision>
    <!-- Part m6_threaded_bar_225mm -->
    <visual>
      <origin xyz="0.0845 0.326445 -0.0363334" rpy="-0 1.50098 -1.5708"/>
      <geometry>
        <mesh filename="package://assets/m6_threaded_bar_225mm.stl"/>
      </geometry>
      <material name="m6_threaded_bar_225mm_material">
        <color rgba="0.27451 0.0117647 0.317647 1"/>
      </material>
    </visual>
    <collision>
      <origin xyz="0.0845 0.326445 -0.0363334" rpy="-0 1.50098 -1.5708"/>
      <geometry>
        <mesh filename="package://assets/m6_threaded_bar_225mm.stl"/>
      </geometry>
    </collision>
    <!-- Part urdf_spacer_x4_2 -->
    <visual>
      <origin xyz="0.05375 0.16 -0.055" rpy="3.14159 -1.51844 -1.5708"/>
      <geometry>
        <mesh filename="package://assets/urdf_spacer_x4.stl"/>
      </geometry>
      <material name="urdf_spacer_x4_2_material">
        <color rgba="0.615686 0.811765 0.929412 1"/>
      </material>
    </visual>
    <collision>
      <origin xyz="0.05375 0.16 -0.055" rpy="3.14159 -1.51844 -1.5708"/>
      <geometry>
        <mesh filename="package://assets/urdf_spacer_x4.stl"/>
      </geometry>
    </collision>
  </link>
  <!-- Link urdf_ankle_assembly -->
  <link name="urdf_ankle_assembly">
    <inertial>
      <origin xyz="-0 0.0125426 -0.004" rpy="0 0 0"/>
      <mass value="0.0818219"/>
      <inertia ixx="1.69449e-05" ixy="0" ixz="0" iyy="1.25404e-05" iyz="0" izz="2.15245e-05"/>
    </inertial>
    <!-- Part urdf_ankle_assembly -->
    <visual>
      <origin xyz="-0 0.0125426 -0.004" rpy="1.5708 1.5708 0"/>
      <geometry>
        <mesh filename="package://assets/urdf_ankle_assembly.stl"/>
      </geometry>
      <material name="urdf_ankle_assembly_material">
        <color rgba="0.615686 0.811765 0.929412 1"/>
      </material>
    </visual>
    <collision>
      <origin xyz="-0 0.0125426 -0.004" rpy="1.5708 1.5708 0"/>
      <geometry>
        <mesh filename="package://assets/urdf_ankle_assembly.stl"/>
      </geometry>
    </collision>
  </link>
  <!-- Link urdf_foot_assembly -->
  <link name="urdf_foot_assembly">
    <inertial>
      <origin xyz="-9.73e-10 0.0209668 0.0427639" rpy="0 0 0"/>
      <mass value="0.504"/>
      <inertia ixx="0.00202397" ixy="-1.6e-11" ixz="1.2e-11" iyy="0.00229243" iyz="5.90887e-06" izz="0.000361698"/>
    </inertial>
    <!-- Part urdf_foot_assembly -->
    <visual>
      <origin xyz="5.6e-11 0.0209668 0.0427639" rpy="1.5708 0 -0"/>
      <geometry>
        <mesh filename="package://assets/urdf_foot_assembly.stl"/>
      </geometry>
      <material name="urdf_foot_assembly_material">
        <color rgba="0.615686 0.811765 0.929412 1"/>
      </material>
    </visual>
    <collision>
      <origin xyz="5.6e-11 0.0209668 0.0427639" rpy="1.5708 0 -0"/>
      <geometry>
        <mesh filename="package://assets/urdf_foot_assembly.stl"/>
      </geometry>
    </collision>
  </link>
  <!-- Joint from urdf_ankle_assembly to urdf_foot_assembly -->
  <joint name="left_ankle_roll_joint" type="revolute">
    <origin xyz="-0.012 0.028 -0.004" rpy="0 1.5708 0"/>
    <parent link="urdf_ankle_assembly"/>
    <child link="urdf_foot_assembly"/>
    <axis xyz="0 0 1"/>
    <limit effort="10" velocity="10" lower="-0.785398" upper="0.785398"/>
  </joint>
  <!-- Joint from urdf_l_tibia_assembly to urdf_ankle_assembly -->
  <joint name="left_ankle_pitch_joint" type="revolute">
    <origin xyz="0 0.395 -0.051" rpy="0 -0 0"/>
    <parent link="urdf_l_tibia_assembly"/>
    <child link="urdf_ankle_assembly"/>
    <axis xyz="0 0 1"/>
    <limit effort="10" velocity="10" lower="-0.785398" upper="0.785398"/>
  </joint>
  <!-- Joint from urdf_lower_femur_assembly to urdf_l_tibia_assembly -->
  <joint name="left_knee_joint" type="revolute">
    <origin xyz="-0.055 0 0.113" rpy="1.5708 0 -1.5708"/>
    <parent link="urdf_lower_femur_assembly"/>
    <child link="urdf_l_tibia_assembly"/>
    <axis xyz="0 0 1"/>
    <limit effort="10" velocity="10" lower="-0.174533" upper="1.5708"/>
  </joint>
  <!-- Joint from urdf_l_upper_femur_assembly to urdf_lower_femur_assembly -->
  <joint name="left_hip_yaw_joint" type="revolute">
    <origin xyz="-0 0.217 -0.053" rpy="-1.5708 0 0"/>
    <parent link="urdf_l_upper_femur_assembly"/>
    <child link="urdf_lower_femur_assembly"/>
    <axis xyz="0 0 1"/>
    <limit effort="10" velocity="10" lower="-1.5708" upper="1.5708"/>
  </joint>
  <!-- Joint from urdf_hip_assembly to urdf_l_upper_femur_assembly -->
  <joint name="left_hip_roll_joint" type="revolute">
    <origin xyz="0.055 0 0.073" rpy="-0 1.5708 0"/>
    <parent link="urdf_hip_assembly"/>
    <child link="urdf_l_upper_femur_assembly"/>
    <axis xyz="0 0 1"/>
    <limit effort="10" velocity="10" lower="-0.349066" upper="3.14159"/>
  </joint>
  <!-- Joint from urdf_base to urdf_hip_assembly -->
  <joint name="left_hip_pitch_joint" type="revolute">
    <origin xyz="-0.111301 0.0333787 -0.467748" rpy="-1.5708 -0 1.5708"/>
    <parent link="urdf_base"/>
    <child link="urdf_hip_assembly"/>
    <axis xyz="0 0 1"/>
    <limit effort="10" velocity="10" lower="-2.53073" upper="1.5708"/>
  </joint>
  <!-- Link urdf_hip_assembly_2 -->
  <link name="urdf_hip_assembly_2">
    <inertial>
      <origin xyz="-0.00420762 6.23945e-06 0.0739982" rpy="0 0 0"/>
      <mass value="1.73"/>
      <inertia ixx="0.00302301" ixy="-4.5747e-08" ixz="2.30858e-05" iyy="0.00263533" iyz="8.49179e-07" izz="0.00228746"/>
    </inertial>
    <!-- Part hip_2 -->
    <visual>
      <origin xyz="0.00253653 3.27638e-05 0.0570203" rpy="1.5708 1.5708 0"/>
      <geometry>
        <mesh filename="package://assets/hip.stl"/>
      </geometry>
      <material name="hip_2_material">
        <color rgba="0.0627451 0.266667 0.490196 1"/>
      </material>
    </visual>
    <collision>
      <origin xyz="0.00253653 3.27638e-05 0.0570203" rpy="1.5708 1.5708 0"/>
      <geometry>
        <mesh filename="package://assets/hip.stl"/>
      </geometry>
    </collision>
    <!-- Part stator_x8_p20_120_unified_7 -->
    <visual>
      <origin xyz="-0.043 0 0.078" rpy="-3.14159 -1.5708 0"/>
      <geometry>
        <mesh filename="package://assets/stator_x8_p20_120_unified.stl"/>
      </geometry>
      <material name="stator_x8_p20_120_unified_7_material">
        <color rgba="0.882353 0.572549 0.478431 1"/>
      </material>
    </visual>
    <collision>
      <origin xyz="-0.043 0 0.078" rpy="-3.14159 -1.5708 0"/>
      <geometry>
        <mesh filename="package://assets/stator_x8_p20_120_unified.stl"/>
      </geometry>
    </collision>
  </link>
  <!-- Link urdf_r_upper_femur_assemby -->
  <link name="urdf_r_upper_femur_assemby">
    <inertial>
      <origin xyz="0.000405705 0.147963 -0.0457092" rpy="0 0 0"/>
      <mass value="1.912"/>
      <inertia ixx="0.00557422" ixy="5.18237e-05" ixz="1.24938e-06" iyy="0.00336736" iyz="0.000930579" izz="0.00513139"/>
    </inertial>
    <!-- Part r_upper_femur -->
    <visual>
      <origin xyz="0.00151505 0.111761 -0.0257733" rpy="1.5708 0 -0"/>
      <geometry>
        <mesh filename="package://assets/r_upper_femur.stl"/>
      </geometry>
      <material name="r_upper_femur_material">
        <color rgba="0.941176 0.87451 0.678431 1"/>
      </material>
    </visual>
    <collision>
      <origin xyz="0.00151505 0.111761 -0.0257733" rpy="1.5708 0 -0"/>
      <geometry>
        <mesh filename="package://assets/r_upper_femur.stl"/>
      </geometry>
    </collision>
    <!-- Part stator_x8_p20_120_unified_8 -->
    <visual>
      <origin xyz="-0 0.124 -0.053" rpy="-1.5708 -0 0"/>
      <geometry>
        <mesh filename="package://assets/stator_x8_p20_120_unified.stl"/>
      </geometry>
      <material name="stator_x8_p20_120_unified_8_material">
        <color rgba="0.882353 0.572549 0.478431 1"/>
      </material>
    </visual>
    <collision>
      <origin xyz="-0 0.124 -0.053" rpy="-1.5708 -0 0"/>
      <geometry>
        <mesh filename="package://assets/stator_x8_p20_120_unified.stl"/>
      </geometry>
    </collision>
  </link>
  <!-- Link urdf_lower_femur_assembly_2 -->
  <link name="urdf_lower_femur_assembly_2">
    <inertial>
      <origin xyz="-0.00357383 -1.0389e-08 0.103307" rpy="0 0 0"/>
      <mass value="1.817"/>
      <inertia ixx="0.00421827" ixy="-2.5e-11" ixz="0.00019709" iyy="0.00383469" iyz="2.1291e-08" izz="0.00258541"/>
    </inertial>
    <!-- Part lower_femur_2 -->
    <visual>
      <origin xyz="0.00389134 5.752e-09 0.070766" rpy="-3.14159 0 3.14159"/>
      <geometry>
        <mesh filename="package://assets/lower_femur.stl"/>
      </geometry>
      <material name="lower_femur_2_material">
        <color rgba="0.380392 0.0470588 0.435294 1"/>
      </material>
    </visual>
    <collision>
      <origin xyz="0.00389134 5.752e-09 0.070766" rpy="-3.14159 0 3.14159"/>
      <geometry>
        <mesh filename="package://assets/lower_femur.stl"/>
      </geometry>
    </collision>
    <!-- Part stator_x8_p20_120_unified_9 -->
    <visual>
      <origin xyz="-0.043 0 0.113" rpy="0 1.5708 0"/>
      <geometry>
        <mesh filename="package://assets/stator_x8_p20_120_unified.stl"/>
      </geometry>
      <material name="stator_x8_p20_120_unified_9_material">
        <color rgba="0.882353 0.572549 0.478431 1"/>
      </material>
    </visual>
    <collision>
      <origin xyz="-0.043 0 0.113" rpy="0 1.5708 0"/>
      <geometry>
        <mesh filename="package://assets/stator_x8_p20_120_unified.stl"/>
      </geometry>
    </collision>
  </link>
  <!-- Link urdf_r_tibia_assembly -->
  <link name="urdf_r_tibia_assembly">
    <inertial>
      <origin xyz="0.00463921 0.190727 0.0449175" rpy="0 0 0"/>
      <mass value="6.45984"/>
      <inertia ixx="0.0785959" ixy="-0.00175015" ixz="-0.000322094" iyy="0.0153456" iyz="-0.0088755" izz="0.0762312"/>
    </inertial>
    <!-- Part urdf_spacer_x4_3 -->
    <visual>
      <origin xyz="0.05375 0.16 0.055" rpy="-3.14159 1.51844 -1.5708"/>
      <geometry>
        <mesh filename="package://assets/urdf_spacer_x4.stl"/>
      </geometry>
      <material name="urdf_spacer_x4_3_material">
        <color rgba="0.615686 0.811765 0.929412 1"/>
      </material>
    </visual>
    <collision>
      <origin xyz="0.05375 0.16 0.055" rpy="-3.14159 1.51844 -1.5708"/>
      <geometry>
        <mesh filename="package://assets/urdf_spacer_x4.stl"/>
      </geometry>
    </collision>
    <!-- Part m6_threaded_bar_225mm_2 -->
    <visual>
      <origin xyz="0.0845 0.326658 0.0363483" rpy="3.14159 1.50098 1.5708"/>
      <geometry>
        <mesh filename="package://assets/m6_threaded_bar_225mm.stl"/>
      </geometry>
      <material name="m6_threaded_bar_225mm_2_material">
        <color rgba="0.27451 0.0117647 0.317647 1"/>
      </material>
    </visual>
    <collision>
      <origin xyz="0.0845 0.326658 0.0363483" rpy="3.14159 1.50098 1.5708"/>
      <geometry>
        <mesh filename="package://assets/m6_threaded_bar_225mm.stl"/>
      </geometry>
    </collision>
    <!-- Part urdf_spacer_x4_4 -->
    <visual>
      <origin xyz="0.05375 0.235 0.055" rpy="-3.14159 -1.50098 -1.5708"/>
      <geometry>
        <mesh filename="package://assets/urdf_spacer_x4.stl"/>
      </geometry>
      <material name="urdf_spacer_x4_4_material">
        <color rgba="0.615686 0.811765 0.929412 1"/>
      </material>
    </visual>
    <collision>
      <origin xyz="0.05375 0.235 0.055" rpy="-3.14159 -1.50098 -1.5708"/>
      <geometry>
        <mesh filename="package://assets/urdf_spacer_x4.stl"/>
      </geometry>
    </collision>
    <!-- Part urdf_r_tibia_assembly -->
    <visual>
      <origin xyz="0.000678806 0.186264 0.0431372" rpy="1.5708 1.5708 0"/>
      <geometry>
        <mesh filename="package://assets/urdf_r_tibia_assembly.stl"/>
      </geometry>
      <material name="urdf_r_tibia_assembly_material">
        <color rgba="0.615686 0.811765 0.929412 1"/>
      </material>
    </visual>
    <collision>
      <origin xyz="0.000678806 0.186264 0.0431372" rpy="1.5708 1.5708 0"/>
      <geometry>
        <mesh filename="package://assets/urdf_r_tibia_assembly.stl"/>
      </geometry>
    </collision>
    <!-- Part stator_x4_p36_36_unified_9 -->
    <visual>
      <origin xyz="-0.018 0.16 0.055" rpy="-0 1.5708 0"/>
      <geometry>
        <mesh filename="package://assets/stator_x4_p36_36_unified.stl"/>
      </geometry>
      <material name="stator_x4_p36_36_unified_9_material">
        <color rgba="0.764706 0.545098 0.803922 1"/>
      </material>
    </visual>
    <collision>
      <origin xyz="-0.018 0.16 0.055" rpy="-0 1.5708 0"/>
      <geometry>
        <mesh filename="package://assets/stator_x4_p36_36_unified.stl"/>
      </geometry>
    </collision>
    <!-- Part m6_threaded_bar_300mm_2 -->
    <visual>
      <origin xyz="0.0845 0.288767 0.0732859" rpy="0 1.51844 -1.5708"/>
      <geometry>
        <mesh filename="package://assets/m6_threaded_bar_300mm.stl"/>
      </geometry>
      <material name="m6_threaded_bar_300mm_2_material">
        <color rgba="0.141176 0.0352941 0.396078 1"/>
      </material>
    </visual>
    <collision>
      <origin xyz="0.0845 0.288767 0.0732859" rpy="0 1.51844 -1.5708"/>
      <geometry>
        <mesh filename="package://assets/m6_threaded_bar_300mm.stl"/>
      </geometry>
    </collision>
    <!-- Part stator_x4_p36_36_unified_10 -->
    <visual>
      <origin xyz="-0.018 0.235 0.055" rpy="-3.14159 -1.5708 0"/>
      <geometry>
        <mesh filename="package://assets/stator_x4_p36_36_unified.stl"/>
      </geometry>
      <material name="stator_x4_p36_36_unified_10_material">
        <color rgba="0.764706 0.545098 0.803922 1"/>
      </material>
    </visual>
    <collision>
      <origin xyz="-0.018 0.235 0.055" rpy="-3.14159 -1.5708 0"/>
      <geometry>
        <mesh filename="package://assets/stator_x4_p36_36_unified.stl"/>
      </geometry>
    </collision>
  </link>
  <!-- Link urdf_ankle_assembly_2 -->
  <link name="urdf_ankle_assembly_2">
    <inertial>
      <origin xyz="-0 0.0125426 -0.004" rpy="0 0 0"/>
      <mass value="0.0818219"/>
      <inertia ixx="1.69449e-05" ixy="0" ixz="0" iyy="1.25404e-05" iyz="0" izz="2.15245e-05"/>
    </inertial>
    <!-- Part urdf_ankle_assembly_2 -->
    <visual>
      <origin xyz="-0 0.0125426 -0.004" rpy="1.5708 1.5708 0"/>
      <geometry>
        <mesh filename="package://assets/urdf_ankle_assembly.stl"/>
      </geometry>
      <material name="urdf_ankle_assembly_2_material">
        <color rgba="0.615686 0.811765 0.929412 1"/>
      </material>
    </visual>
    <collision>
      <origin xyz="-0 0.0125426 -0.004" rpy="1.5708 1.5708 0"/>
      <geometry>
        <mesh filename="package://assets/urdf_ankle_assembly.stl"/>
      </geometry>
    </collision>
  </link>
  <!-- Link urdf_foot_assembly_2 -->
  <link name="urdf_foot_assembly_2">
    <inertial>
      <origin xyz="-9.73e-10 0.0209668 0.0427639" rpy="0 0 0"/>
      <mass value="0.504"/>
      <inertia ixx="0.00202397" ixy="-1.6e-11" ixz="1.2e-11" iyy="0.00229243" iyz="5.90887e-06" izz="0.000361698"/>
    </inertial>
    <!-- Part urdf_foot_assembly_2 -->
    <visual>
      <origin xyz="5.6e-11 0.0209668 0.0427639" rpy="1.5708 0 0"/>
      <geometry>
        <mesh filename="package://assets/urdf_foot_assembly.stl"/>
      </geometry>
      <material name="urdf_foot_assembly_2_material">
        <color rgba="0.615686 0.811765 0.929412 1"/>
      </material>
    </visual>
    <collision>
      <origin xyz="5.6e-11 0.0209668 0.0427639" rpy="1.5708 0 0"/>
      <geometry>
        <mesh filename="package://assets/urdf_foot_assembly.stl"/>
      </geometry>
    </collision>
  </link>
  <!-- Joint from urdf_ankle_assembly_2 to urdf_foot_assembly_2 -->
  <joint name="right_ankle_pitch_joint" type="revolute">
    <origin xyz="-0.012 0.028 -0.004" rpy="0 1.5708 0"/>
    <parent link="urdf_ankle_assembly_2"/>
    <child link="urdf_foot_assembly_2"/>
    <axis xyz="0 0 1"/>
    <limit effort="10" velocity="10" lower="-0.785398" upper="0.785398"/>
  </joint>
  <!-- Joint from urdf_r_tibia_assembly to urdf_ankle_assembly_2 -->
  <joint name="right_ankle_roll_joint" type="revolute">
    <origin xyz="-0 0.395 0.059" rpy="0 -0 0"/>
    <parent link="urdf_r_tibia_assembly"/>
    <child link="urdf_ankle_assembly_2"/>
    <axis xyz="0 0 1"/>
    <limit effort="10" velocity="10" lower="-0.785398" upper="0.785398"/>
  </joint>
  <!-- Joint from urdf_lower_femur_assembly_2 to urdf_r_tibia_assembly -->
  <joint name="right_knee_joint" type="revolute">
    <origin xyz="0.055 -0 0.113" rpy="1.5708 0 -1.5708"/>
    <parent link="urdf_lower_femur_assembly_2"/>
    <child link="urdf_r_tibia_assembly"/>
    <axis xyz="0 0 1"/>
    <limit effort="10" velocity="10" lower="-0.174533" upper="1.5708"/>
  </joint>
  <!-- Joint from urdf_r_upper_femur_assemby to urdf_lower_femur_assembly_2 -->
  <joint name="right_hip_yaw_joint" type="revolute">
    <origin xyz="0 0.217 -0.053" rpy="-1.5708 0 -0"/>
    <parent link="urdf_r_upper_femur_assemby"/>
    <child link="urdf_lower_femur_assembly_2"/>
    <axis xyz="0 0 1"/>
    <limit effort="10" velocity="10" lower="-1.5708" upper="1.5708"/>
  </joint>
  <!-- Joint from urdf_hip_assembly_2 to urdf_r_upper_femur_assemby -->
  <joint name="right_hip_roll_joint" type="revolute">
    <origin xyz="0.055 0 0.078" rpy="-3.14159 -1.5708 0"/>
    <parent link="urdf_hip_assembly_2"/>
    <child link="urdf_r_upper_femur_assemby"/>
    <axis xyz="0 0 1"/>
    <limit effort="10" velocity="10" lower="-3.14159" upper="0.349066"/>
  </joint>
  <!-- Joint from urdf_base to urdf_hip_assembly_2 -->
  <joint name="right_hip_pitch_joint" type="revolute">
    <origin xyz="0.107699 0.0333787 -0.467748" rpy="1.5708 -0 1.5708"/>
    <parent link="urdf_base"/>
    <child link="urdf_hip_assembly_2"/>
    <axis xyz="0 0 1"/>
    <limit effort="10" velocity="10" lower="-1.5708" upper="2.53073"/>
  </joint>
</robot>
